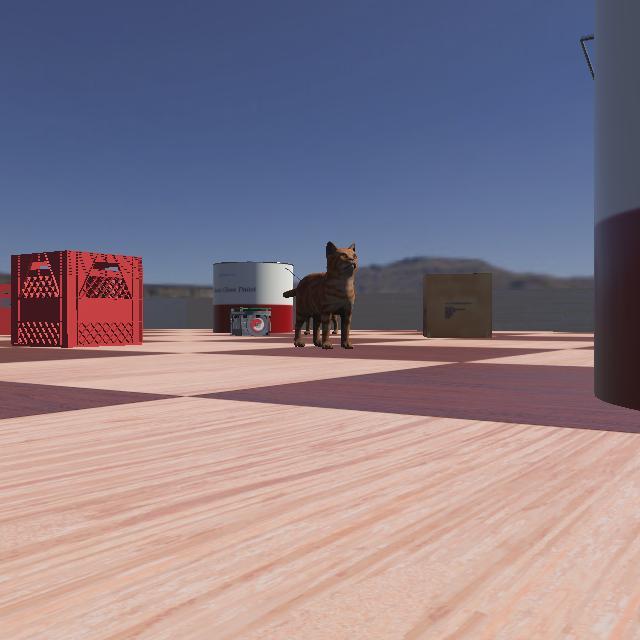cardboard-box: (418, 272, 497, 338), (418, 272, 497, 338)
cat: (272, 238, 362, 350), (272, 238, 362, 350), (272, 238, 362, 350), (272, 238, 362, 350)
paint-bucket: (503, 1, 639, 463), (503, 1, 639, 463), (503, 1, 639, 463)
plastic-crate: (0, 249, 154, 347)
